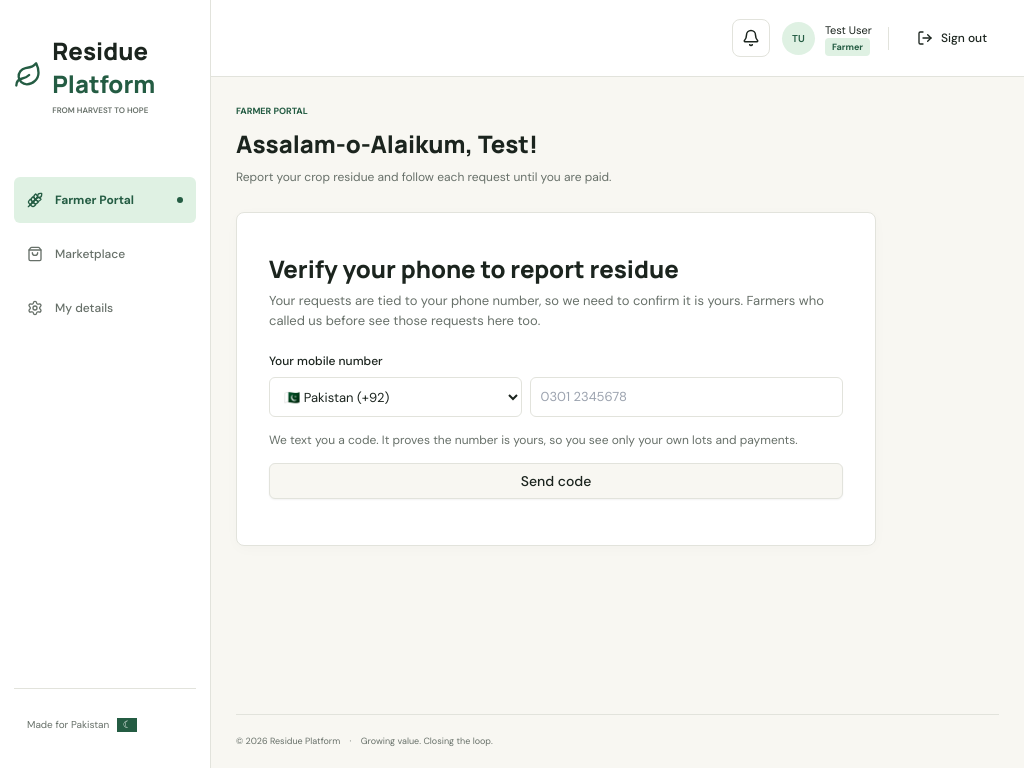
it: farmer page › verifying the phone links the account and opens the form
The image size is (1024, 768).
Type "0300 1234567" into the field labelled "Your mobile number" at (686, 397), box top-left (530, 377), bottom-right (843, 417)
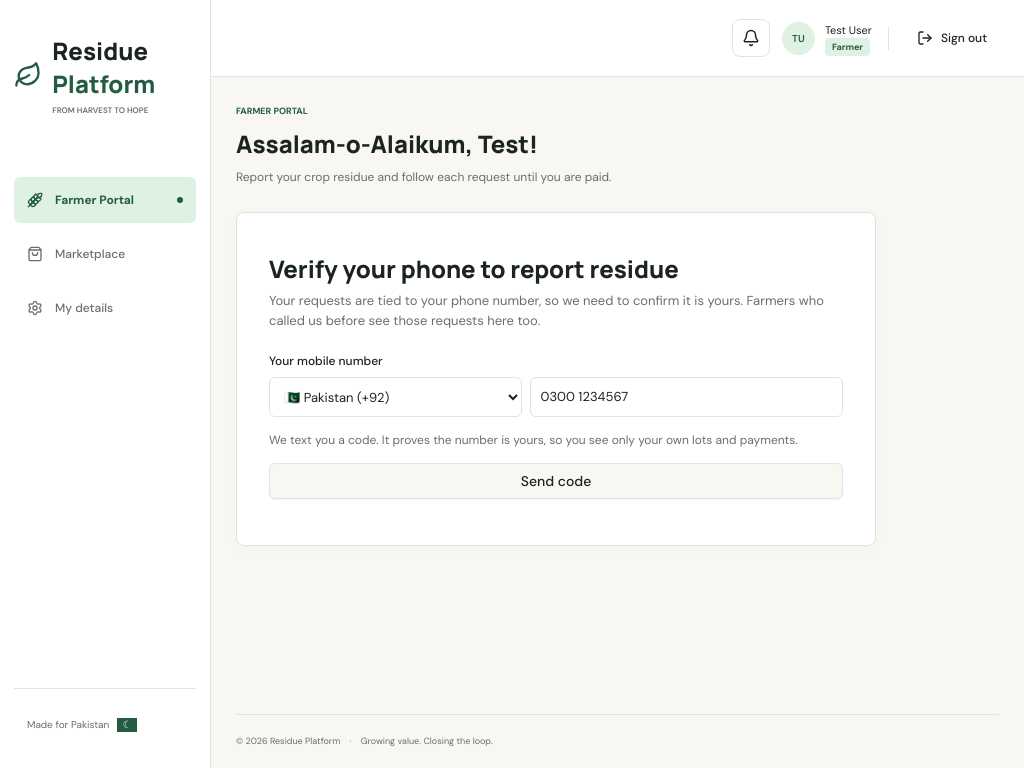
Click the button "Send code" at (556, 481), box top-left (269, 463), bottom-right (843, 499)
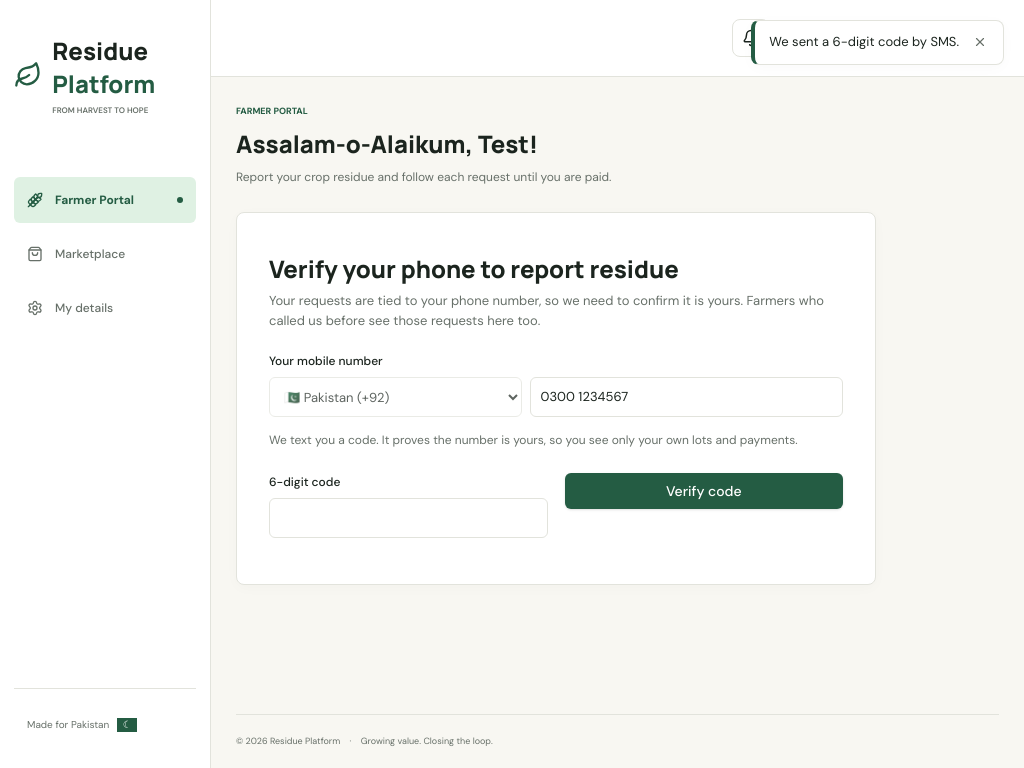
Type "123456" into the field labelled "6-digit code" at (408, 518), box top-left (269, 498), bottom-right (548, 538)
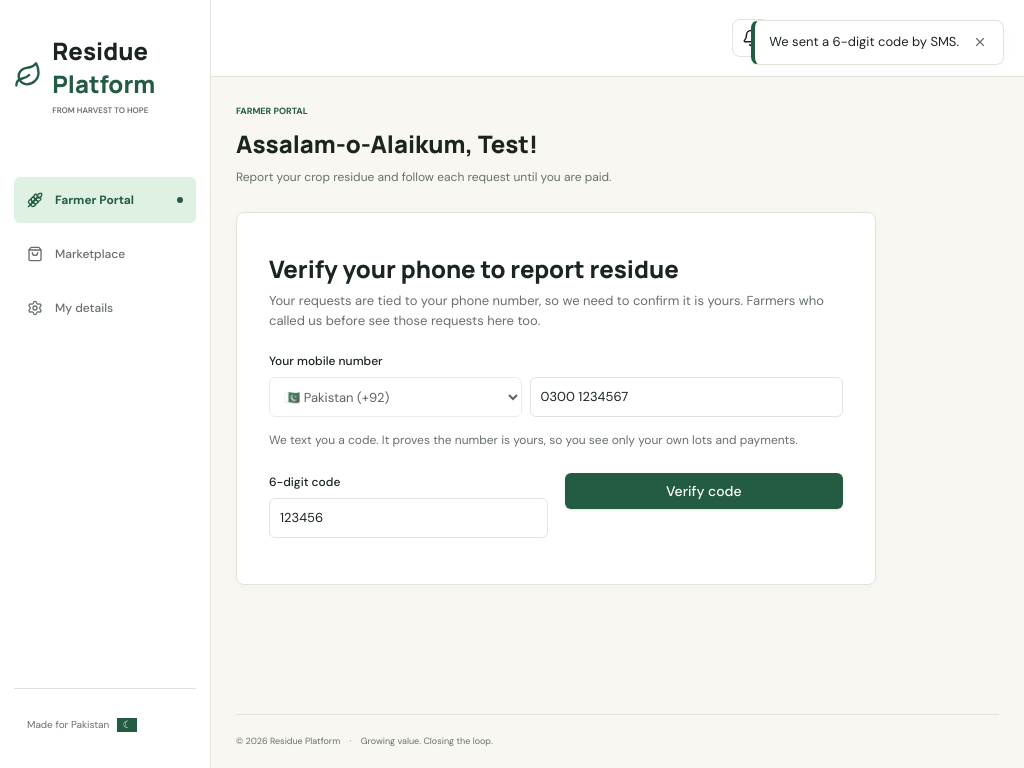
Click the button "Verify code" at (704, 491), box top-left (564, 473), bottom-right (843, 509)
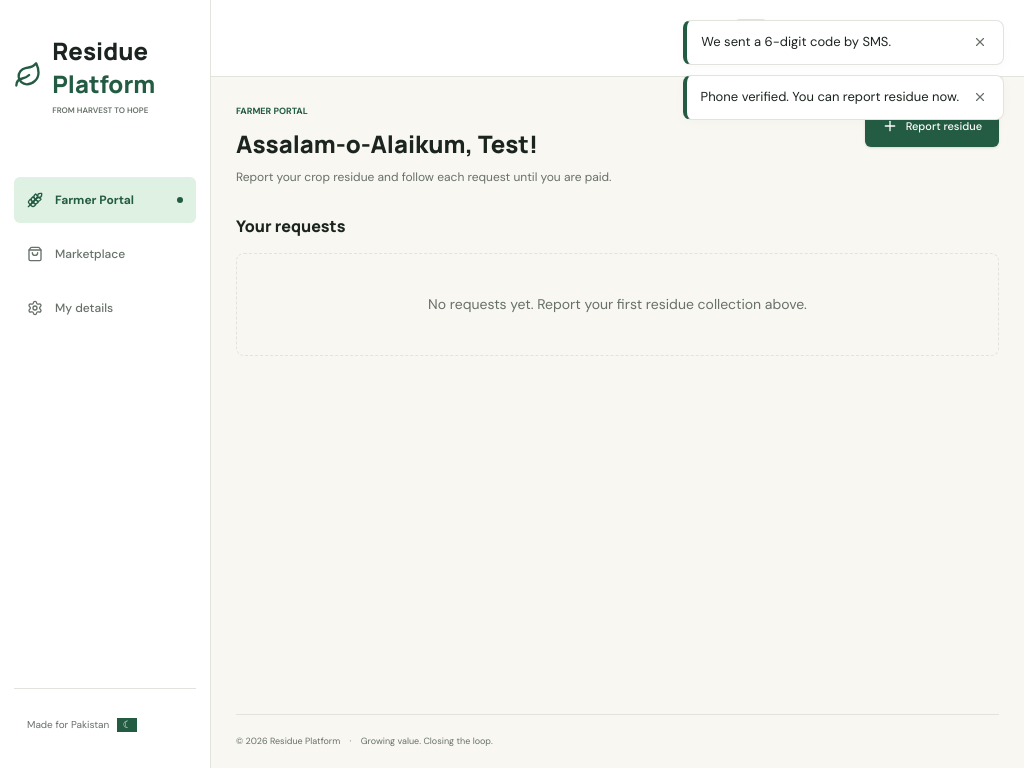
Expected: the button "Report residue" is shown, top-left (865, 105), bottom-right (999, 147)
Expected: the heading "Verify your phone to report residue" is gone
